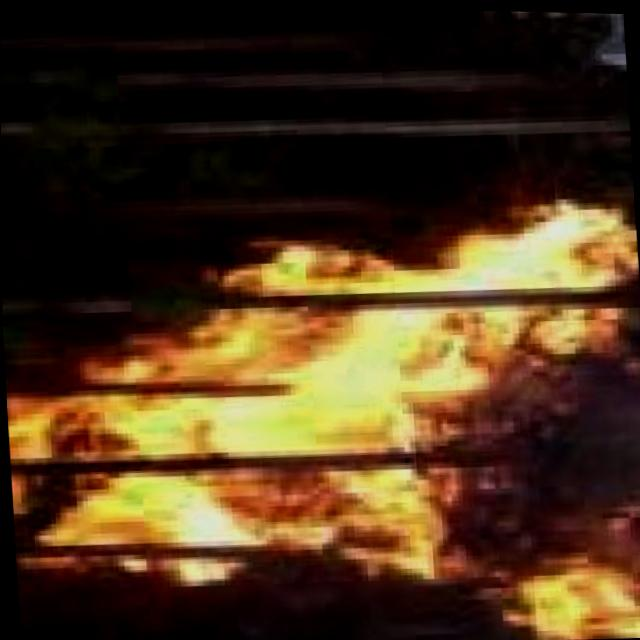fire: (1, 186, 640, 640)
